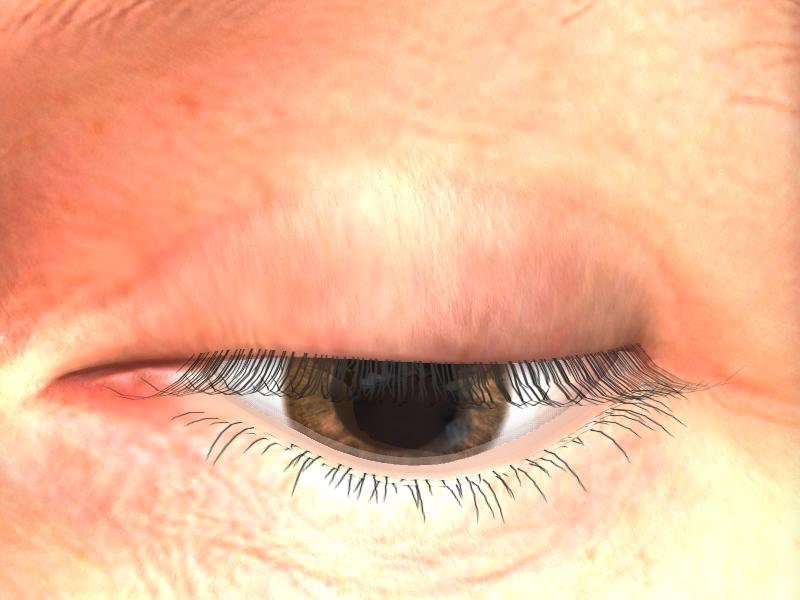eye: (283, 350, 504, 461)
